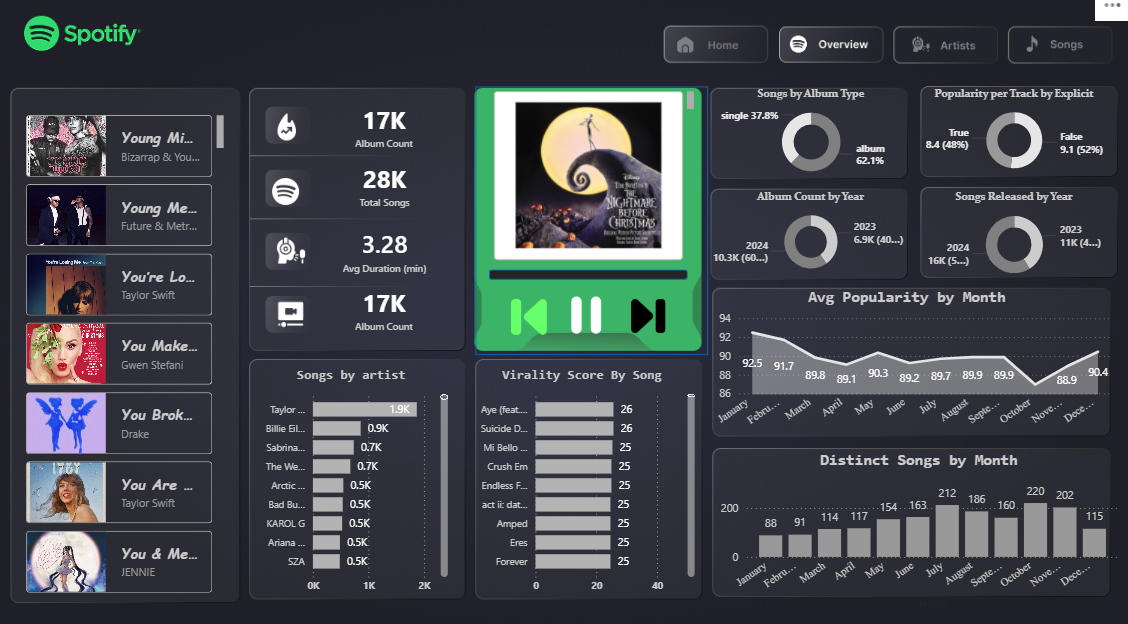

Layout of this report page (visuals, bound fields, positions):
{"tool":"powerbi","page":{"name":"Overview","canvas":[1280,720],"ordinal":1},"visuals":[{"type":"image","box":[9.4,0,1269.8,720.8],"z":0},{"type":"actionButton","box":[747.2,37.6,123.3,46.7],"z":0,"group":"g3"},{"type":"actionButton","box":[883.5,38.3,115,46.7],"z":1000,"group":"g3"},{"type":"donutChart","title":"Songs by Album Type","fields":{"Y":["Measures_.Total Songs"],"Category":["Spotify.album_type"]},"box":[818,112,212,108],"z":1000},{"type":"image","box":[322,140.8,49.7,29.8],"z":1000,"group":"g1"},{"type":"actionButton","box":[1012.2,38.7,111.7,43.3],"z":2000,"group":"g3"},{"type":"donutChart","title":"Popularity per Track by Explicit","fields":{"Y":["Measures_.Popularity per Track"],"Category":["Spotify.is_explicit"]},"box":[1030,112,240,104],"z":2000},{"type":"image","box":[322,278.3,49.7,31.5],"z":2000,"group":"g1"},{"type":"actionButton","box":[1141.6,43.4,100,40],"z":3000,"group":"g3"},{"type":"image","box":[322,212,38.1,29.8],"z":3000,"group":"g1"},{"type":"donutChart","fields":{"Y":["Measures_.Album Count"],"Category":["Spotify.date.Variation.Date Hierarchy.Year","Spotify.date.Variation.Date Hierarchy.Quarter","Spotify.date.Variation.Date Hierarchy.Month","Spotify.date.Variation.Date Hierarchy.Day"]},"box":[810,226,228,100],"z":3000},{"type":"donutChart","fields":{"Y":["Measures_.Songs Released"],"Category":["Spotify.date.Variation.Date Hierarchy.Year","Spotify.date.Variation.Date Hierarchy.Quarter","Spotify.date.Variation.Date Hierarchy.Month","Spotify.date.Variation.Date Hierarchy.Day"]},"box":[1040,226,220,106],"z":4000},{"type":"image","box":[322,347.8,49.7,33.1],"z":4000,"group":"g1"},{"type":"cardVisual","fields":{"Data":["Measures_.Avg Duration (min)"]},"box":[361.8,243.5,178.9,102.7],"z":5000,"group":"g1"},{"type":"clusteredBarChart","title":"Songs by artist","fields":{"Y":["Measures_.Total Songs"],"Category":["Spotify.artist"]},"box":[302,424,224,260],"z":5000},{"type":"group","id":"g1","title":"Group 1","box":[322,106,228,304],"z":6000},{"type":"cardVisual","fields":{"Data":["Measures_.Album Count"]},"box":[350.2,106,200.4,99.4],"z":6000,"group":"g1"},{"type":"cardVisual","fields":{"Data":["Measures_.Total Songs"]},"box":[351.8,170.6,198.8,99.4],"z":7000,"group":"g1"},{"type":"clusteredBarChart","title":"Virality Score By Song","fields":{"Category":["Spotify.song"],"Y":["Measures_.Virality Score"]},"box":[540,424,260,260],"z":7000},{"type":"cardVisual","fields":{"Data":["Measures_.Album Count"]},"box":[350.2,309.7,200.4,99.4],"z":8000,"group":"g1"},{"type":"clusteredColumnChart","fields":{"Y":["Measures_.Distinct Songs"],"Category":["Spotify.date.Variation.Date Hierarchy.Month"]},"box":[818,514,452,184],"z":8000},{"type":"stackedAreaChart","fields":{"Category":["Spotify.date.Variation.Date Hierarchy.Month"],"Y":["Measures_.Avg Popularity"]},"box":[800,332,462,184],"z":9000},{"type":"advancedSlicerVisual","fields":{"Values":["Spotify.song"],"Label":["Min(Spotify.artist)"]},"box":[47.2,137.7,230.2,543.4],"z":10000},{"type":"advancedSlicerVisual","fields":{"Values":["Spotify.album_cover_url"]},"box":[566,111.3,234,198.1],"z":11000,"group":"g2"},{"type":"image","box":[709.4,345.3,67.9,43.4],"z":12000,"group":"g2"},{"type":"image","box":[573.5,345.3,71.7,45.3],"z":13000,"group":"g2"},{"type":"image","box":[639.6,345.3,69.8,41.5],"z":14000,"group":"g2"},{"type":"shape","box":[566,315.1,220.8,11.3],"z":15000,"group":"g2"},{"type":"group","id":"g2","title":"Group 2","box":[566,111.3,234,279.2],"z":15001},{"type":"shape","box":[550.9,111.3,258.5,298.1],"z":15002},{"type":"group","id":"g3","title":"Group 1","box":[747.2,37.6,494.4,47.4],"z":15003}]}

Visuals, with their boxes on the page's 1280x720 design canvas (x1, y1, x2, y2). These are canvas units, not pixel positions in the 1128x624 screenshot, which may show the page scaled, cropped or inside an application window:
image: x1=9 y1=0 x2=1279 y2=721
actionButton: x1=747 y1=38 x2=870 y2=84
actionButton: x1=884 y1=38 x2=998 y2=85
"Songs by Album Type" donutChart: x1=818 y1=112 x2=1030 y2=220
image: x1=322 y1=141 x2=372 y2=171
actionButton: x1=1012 y1=39 x2=1124 y2=82
"Popularity per Track by Explicit" donutChart: x1=1030 y1=112 x2=1270 y2=216
image: x1=322 y1=278 x2=372 y2=310
actionButton: x1=1142 y1=43 x2=1242 y2=83
image: x1=322 y1=212 x2=360 y2=242
donutChart - Measures_.Album Count x Spotify.date.Variation.Date Hierarchy.Year: x1=810 y1=226 x2=1038 y2=326
donutChart - Measures_.Songs Released x Spotify.date.Variation.Date Hierarchy.Year: x1=1040 y1=226 x2=1260 y2=332
image: x1=322 y1=348 x2=372 y2=381
cardVisual - Measures_.Avg Duration (min): x1=362 y1=244 x2=541 y2=346
"Songs by artist" clusteredBarChart: x1=302 y1=424 x2=526 y2=684
"Group 1" group: x1=322 y1=106 x2=550 y2=410
cardVisual - Measures_.Album Count: x1=350 y1=106 x2=551 y2=205
cardVisual - Measures_.Total Songs: x1=352 y1=171 x2=551 y2=270
"Virality Score By Song" clusteredBarChart: x1=540 y1=424 x2=800 y2=684
cardVisual - Measures_.Album Count: x1=350 y1=310 x2=551 y2=409
clusteredColumnChart - Measures_.Distinct Songs x Spotify.date.Variation.Date Hierarchy.Month: x1=818 y1=514 x2=1270 y2=698
stackedAreaChart - Spotify.date.Variation.Date Hierarchy.Month x Measures_.Avg Popularity: x1=800 y1=332 x2=1262 y2=516
advancedSlicerVisual - Spotify.song x Min(Spotify.artist): x1=47 y1=138 x2=277 y2=681
advancedSlicerVisual - Spotify.album_cover_url: x1=566 y1=111 x2=800 y2=309
image: x1=709 y1=345 x2=777 y2=389
image: x1=574 y1=345 x2=645 y2=391
image: x1=640 y1=345 x2=709 y2=387
shape: x1=566 y1=315 x2=787 y2=326
"Group 2" group: x1=566 y1=111 x2=800 y2=390
shape: x1=551 y1=111 x2=809 y2=409
"Group 1" group: x1=747 y1=38 x2=1242 y2=85
